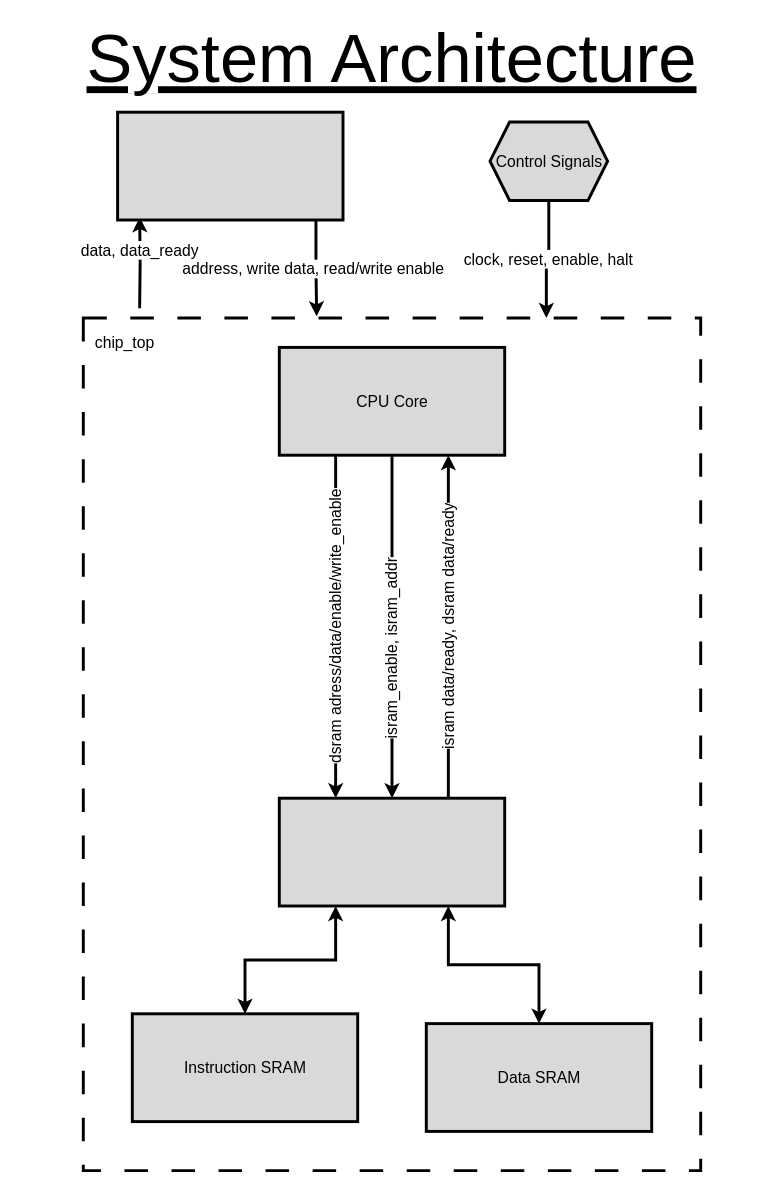
This 783x1189 diagram has some shape labels left out. Each missing label, with the centre of its shape:
"External Crossbar" belongs at [230,165].
"Memory Controller" belongs at [391,851].
